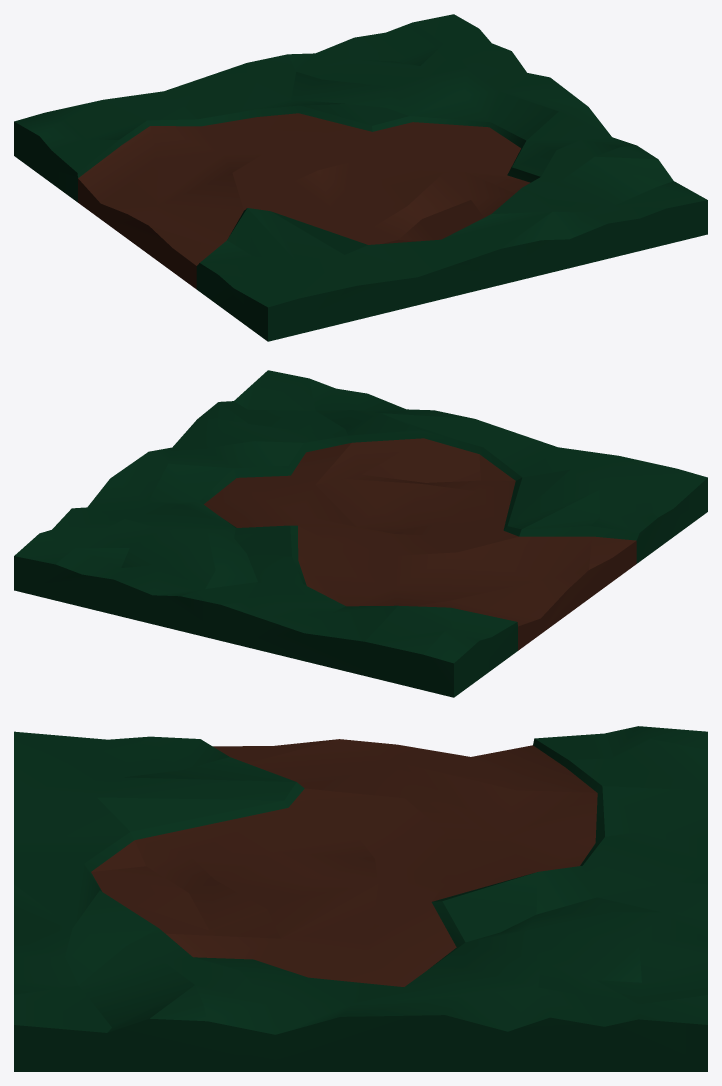
Rendered from Ground_Path_Ending_R.fbx.
The picture shows the model from 3 angles, top to bottom: view 1: azimuth 30°, elevation 25°; view 2: azimuth 150°, elevation 25°; view 3: azimuth 270°, elevation 25°; orthographic projection. The views are drawn at different scales.
Parts seen in each view (by area): view 1: Ground_Path_Ending_R; view 2: Ground_Path_Ending_R; view 3: Ground_Path_Ending_R.
Part boxes in pixels (x1,y1,x2,y2): Ground_Path_Ending_R: (14, 14, 707, 341); Ground_Path_Ending_R: (14, 370, 707, 697); Ground_Path_Ending_R: (14, 726, 707, 1071).
Size of the model in its own units: 147 by 13.97 by 147.
